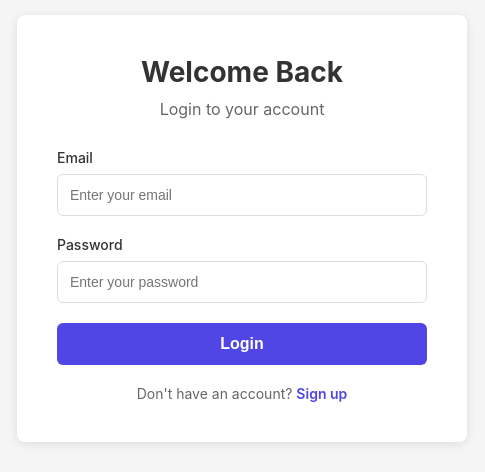
Test case: Login Component › should validate password length
Type "test@example.com" into the field labelled "Email" at (242, 194), box [57,174,427,216]
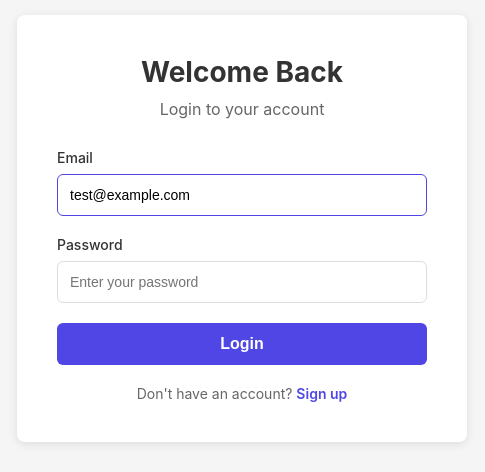
Type "12345" into the password field labelled "Password" at (242, 282), box [57,260,427,302]
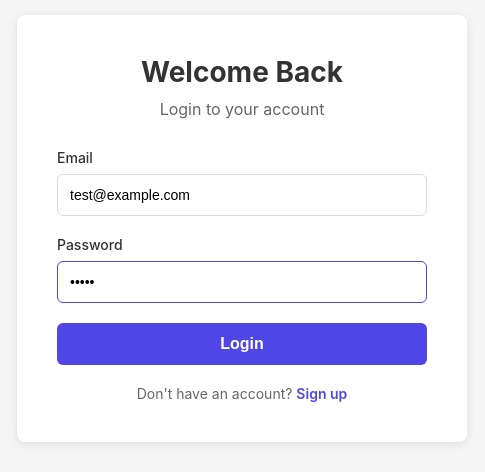
Click the button "Login" at (242, 344), box [57,322,427,364]
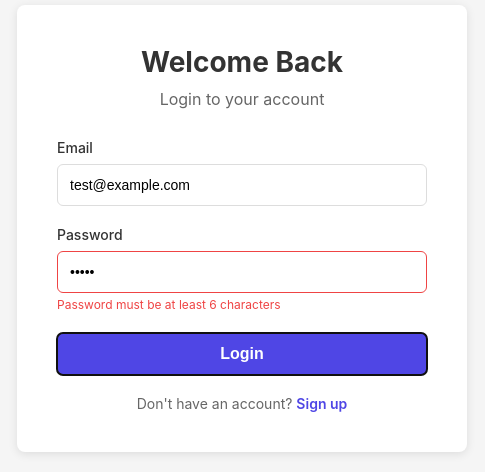
Result: the text "Password must be at least 6 characters" is shown at [57,296,281,312]
